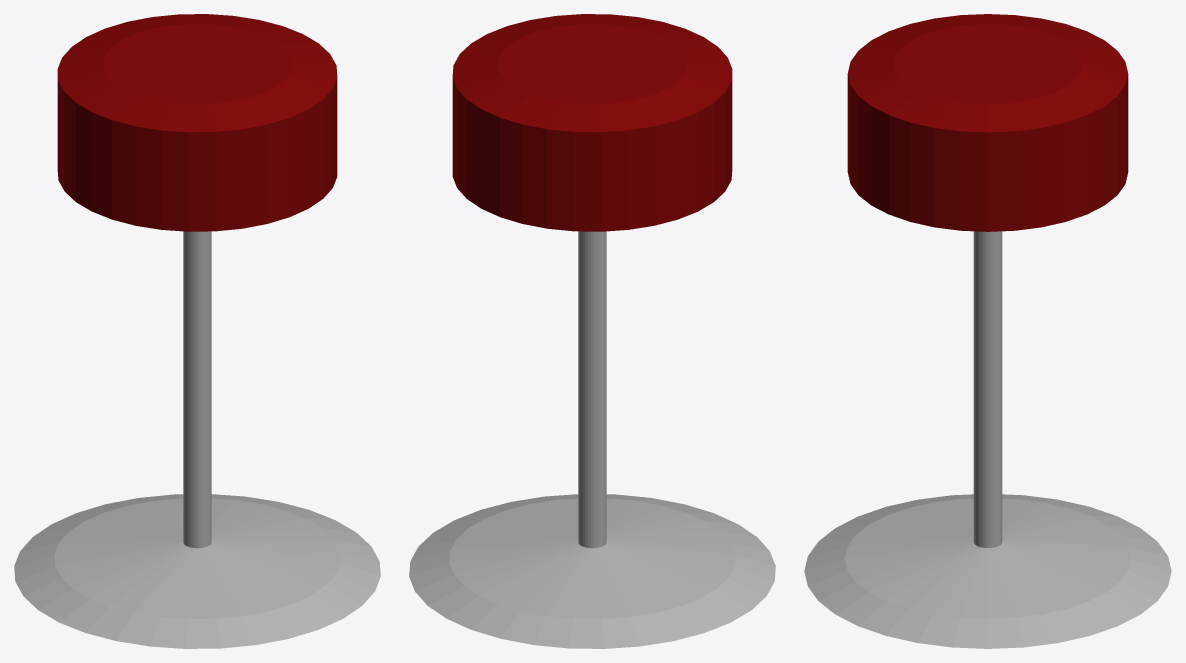
The model's file is BarStool.fbx.
The picture shows the model from 3 angles, left to right: view 1: azimuth 30°, elevation 25°; view 2: azimuth 150°, elevation 25°; view 3: azimuth 270°, elevation 25°; orthographic projection.
Visible parts, largest first — view 1: Bar stool; view 2: Bar stool; view 3: Bar stool.
Part boxes in pixels (x1,y1,x2,y2): Bar stool: (14,14,380,648); Bar stool: (409,14,775,648); Bar stool: (804,14,1171,648).
Bounding box in the file's own units: 262 × 399 × 262.
